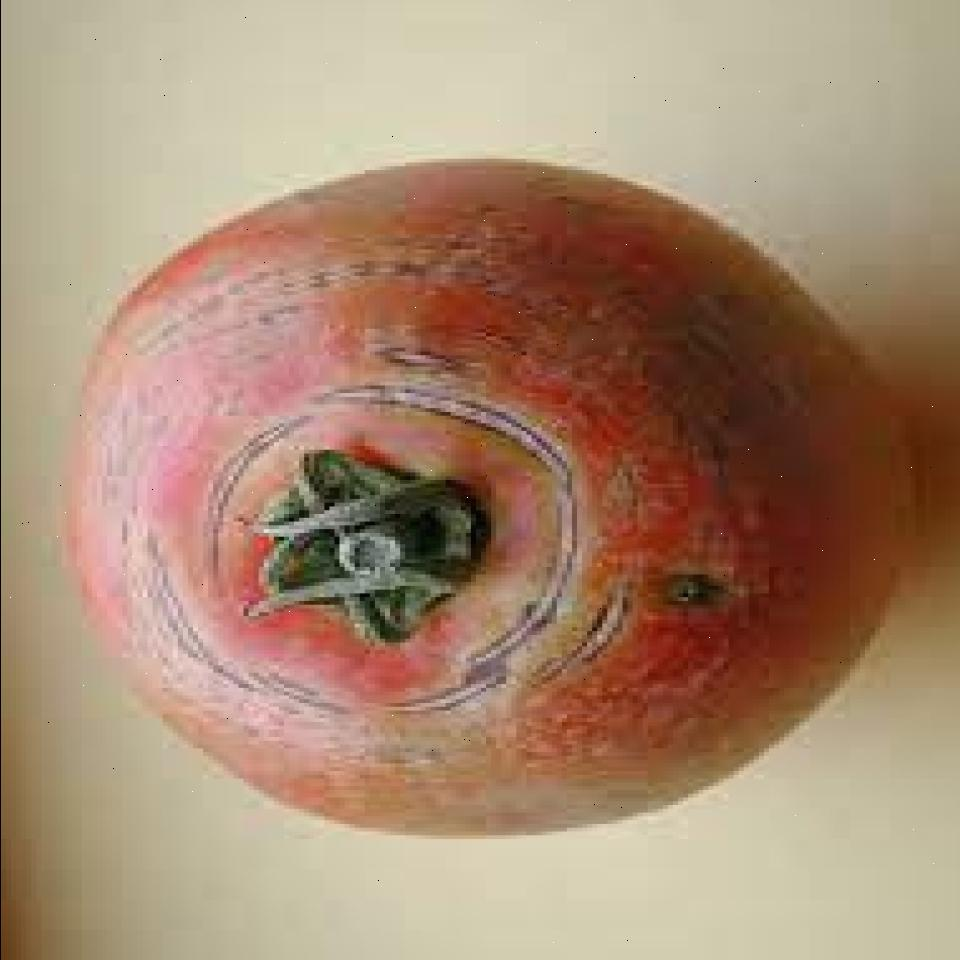Cracking: (309, 386, 578, 682), (114, 236, 544, 381), (98, 484, 252, 728), (178, 387, 325, 630), (252, 658, 536, 742), (522, 578, 636, 718)
